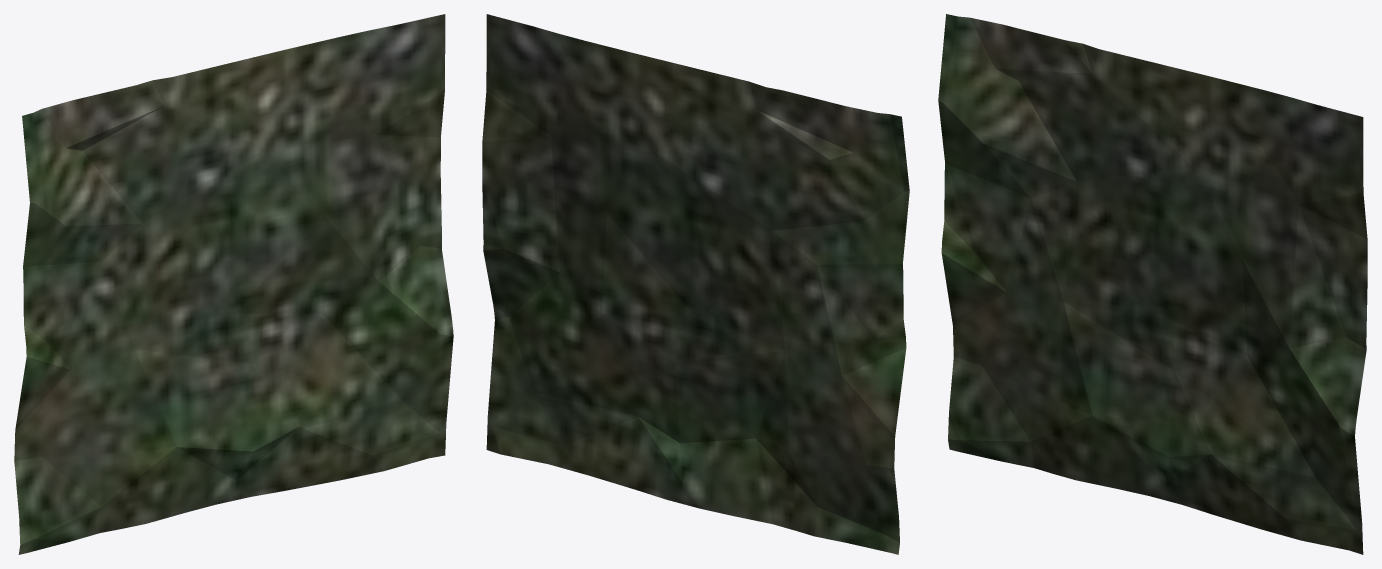
Rendered from Tile_+001_+005_L24_0000031.obj.
The picture shows the model from 3 angles, left to right: view 1: azimuth 30°, elevation 25°; view 2: azimuth 150°, elevation 25°; view 3: azimuth 330°, elevation 25°; orthographic projection.
Size of the model in its own units: 0.9531 by 0.9531 by 0.072.
Materials: 1 (1 with a texture image).
